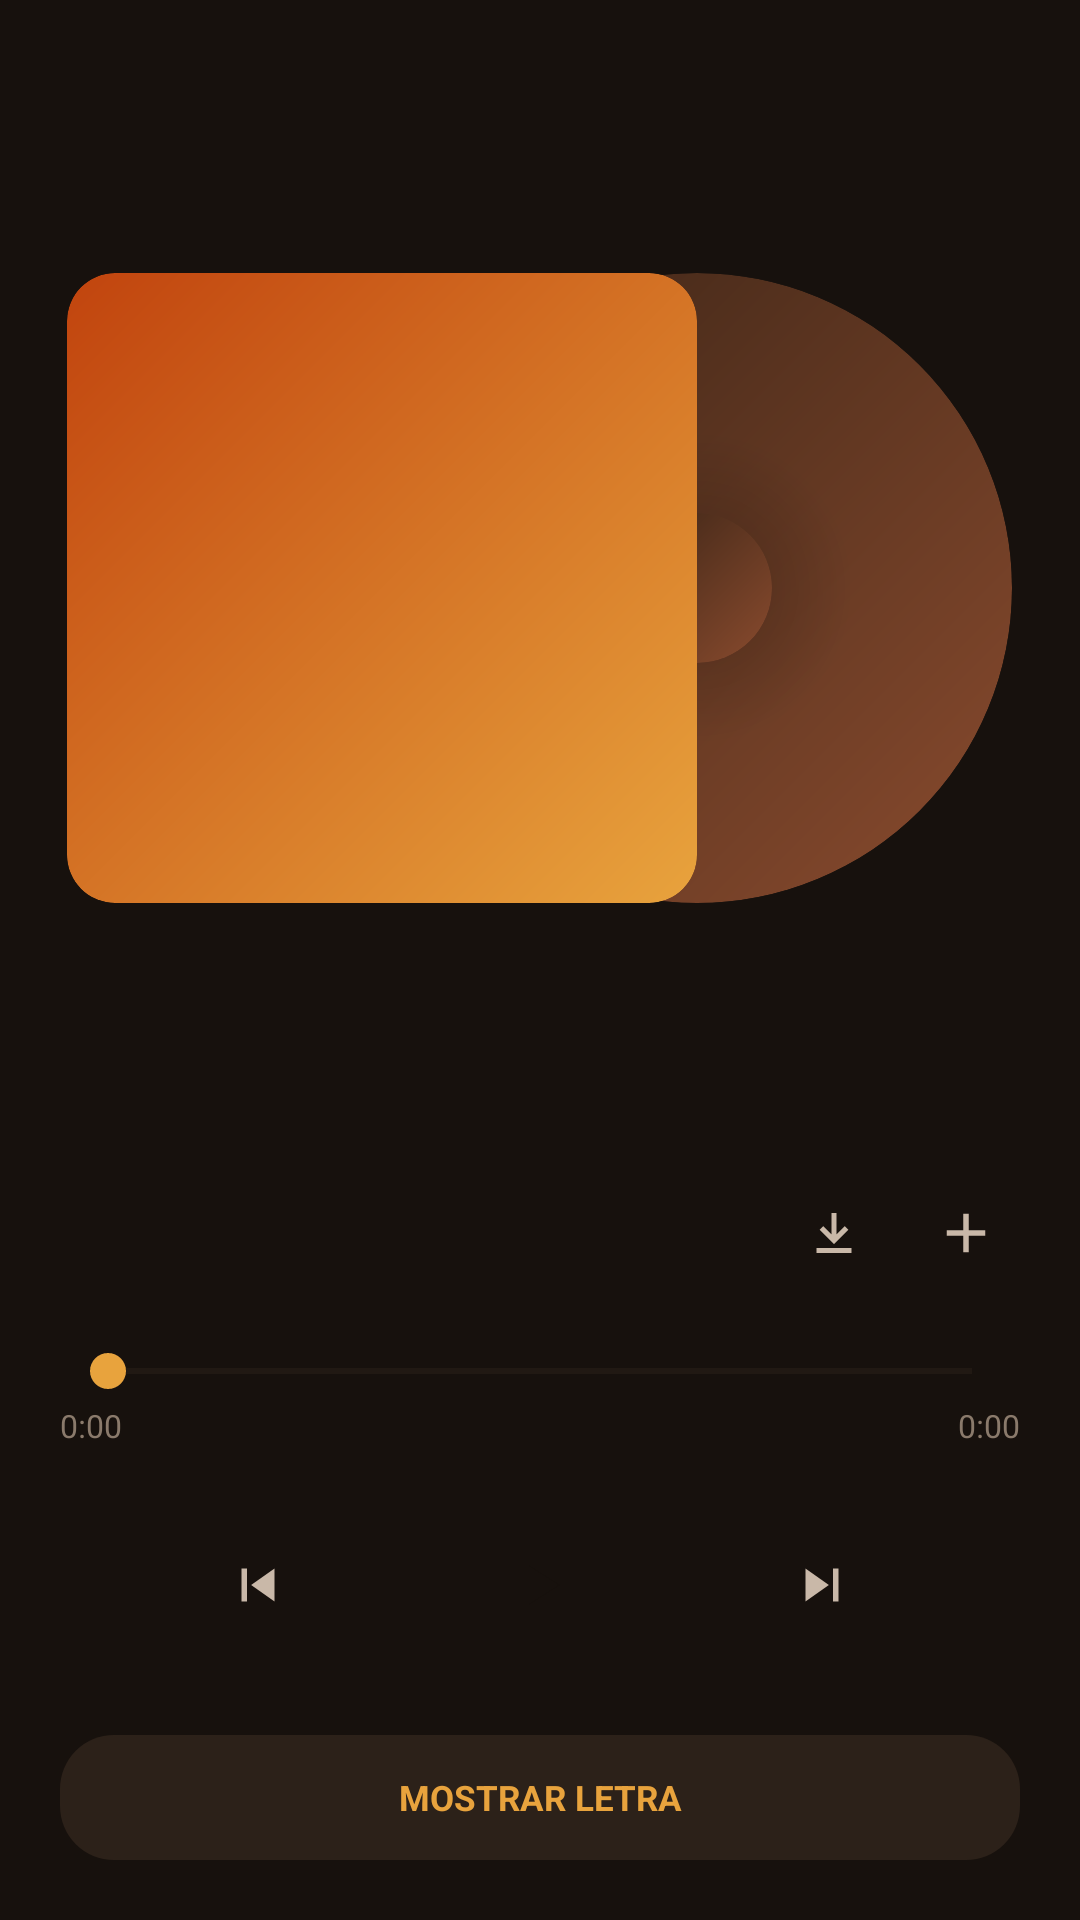

Where to tap for icons on this 1080*1920 app screen, as [x,y]:
Adicionar à playlist: [966,1233]
Baixar: [834,1233]
skip next: [822,1585]
skip previous: [258,1585]
